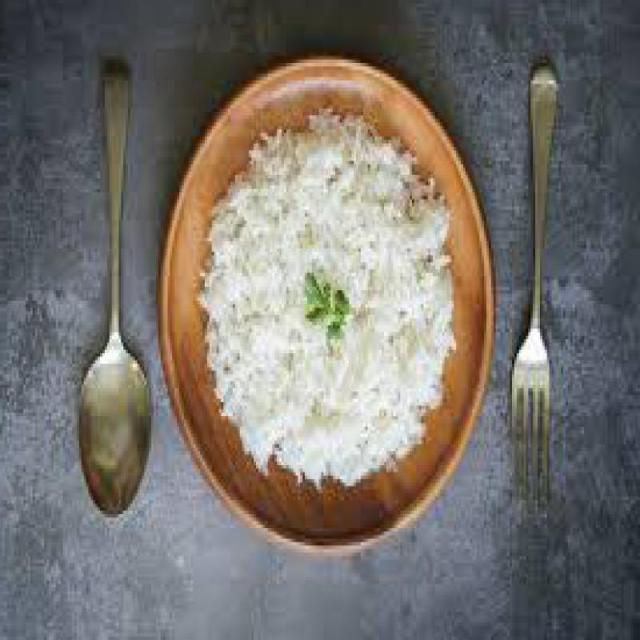nasi_putih: (201, 105, 453, 488)
